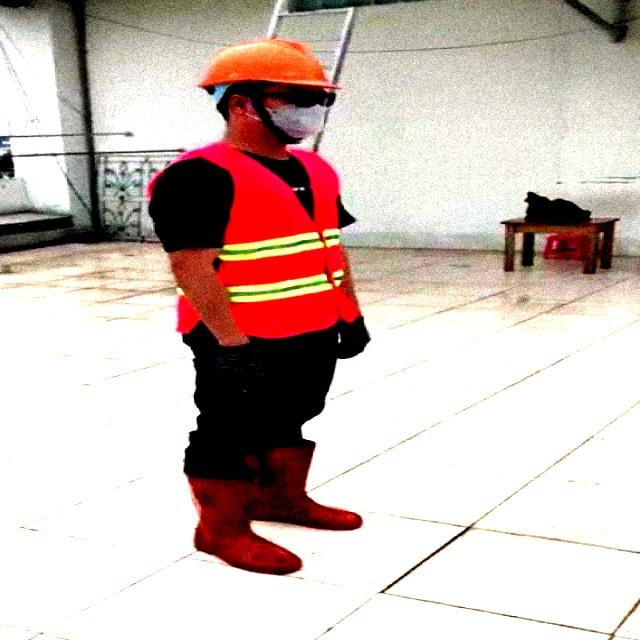helmet: (200, 23, 348, 84)
safety_vest: (145, 148, 398, 377)
